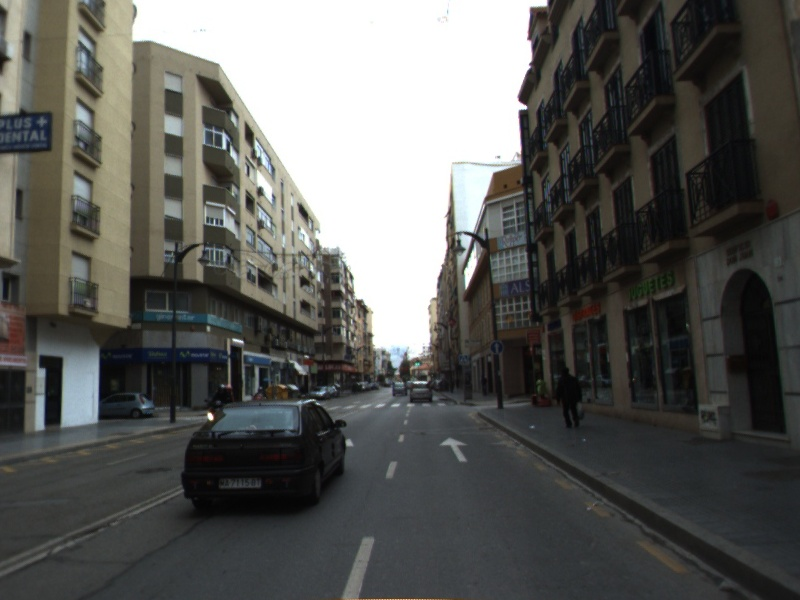STRAIGHT: (437, 435, 470, 464)
